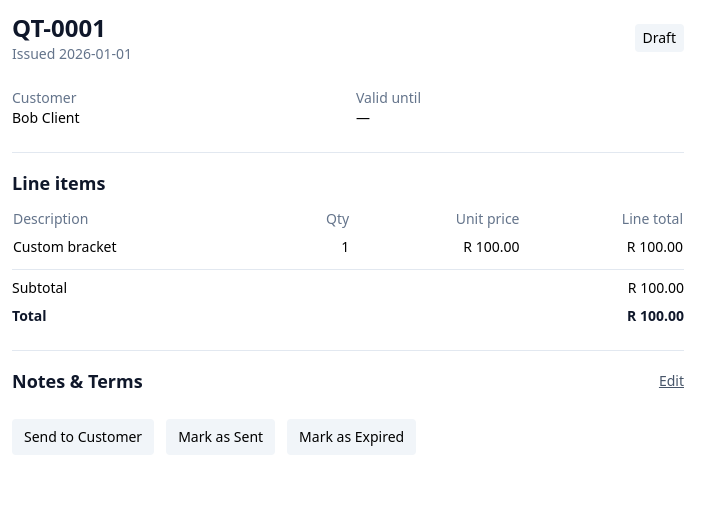
QuoteDetailPage › clears a stale send success banner when an unrelated status-changing action runs
Click the button "Send to Customer" at {"x": 83, "y": 437}, box [12,419,154,455]
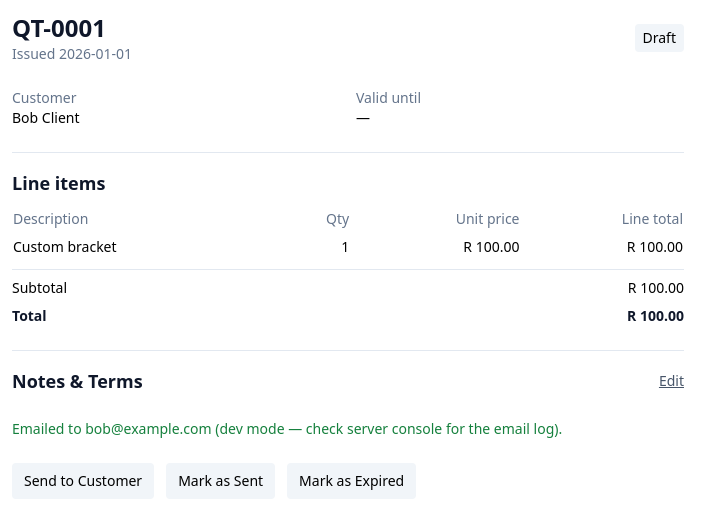
Expected: the text "Emailed to bob@example.com" is shown, [12,419,562,438]
Click the button "Mark as Sent" at {"x": 221, "y": 481}, box [166,463,275,499]
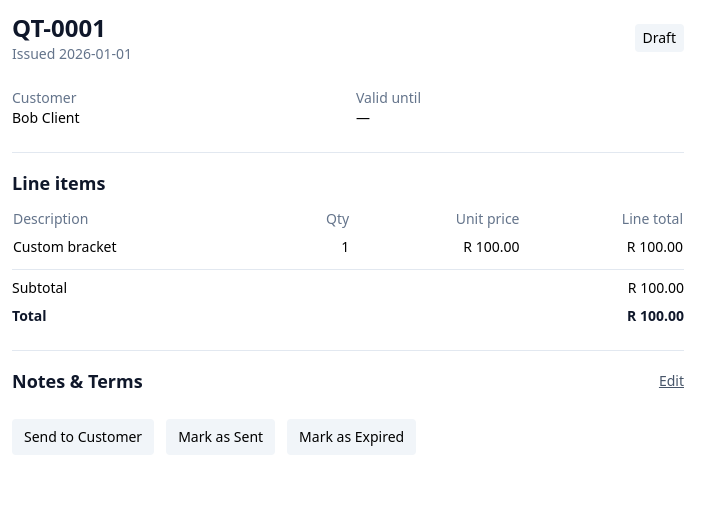
Expected: the text "Emailed to" is gone
